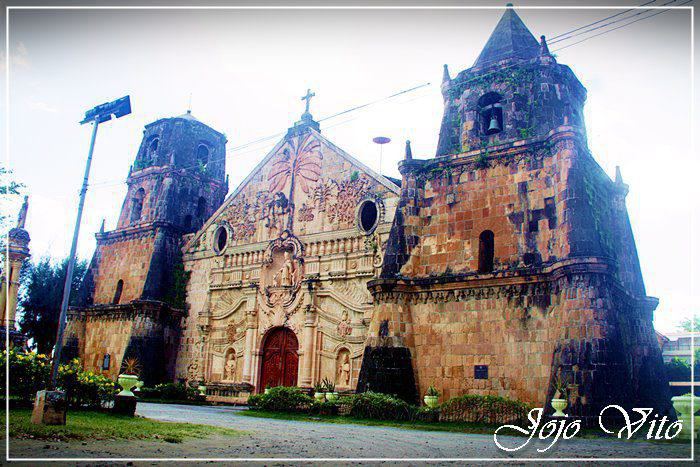miagao_church_miagao_iloilo: (81, 10, 660, 430)
